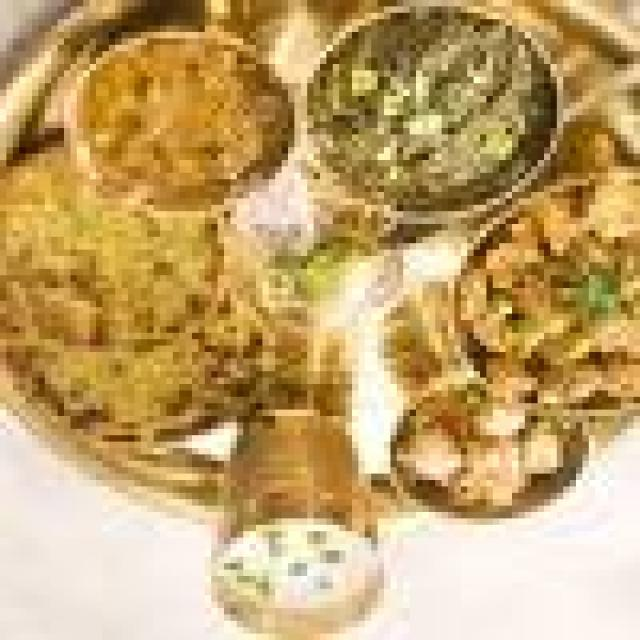rice: (312, 0, 530, 254)
